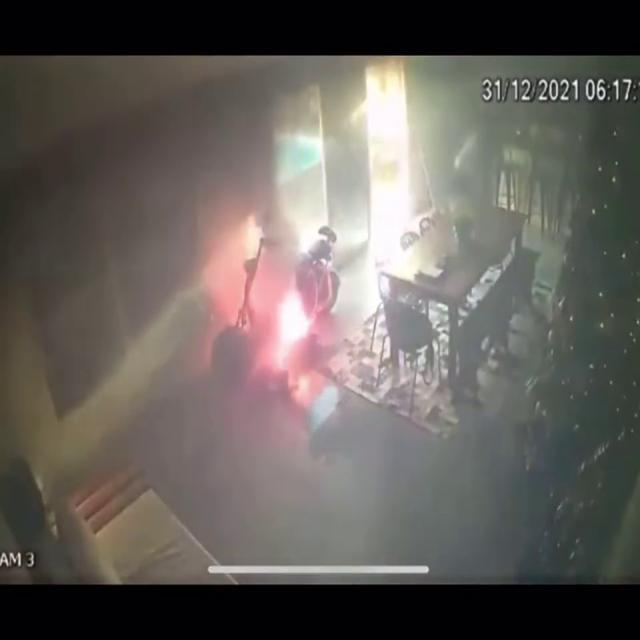Fire: (0, 63, 250, 463), (256, 231, 336, 376)
